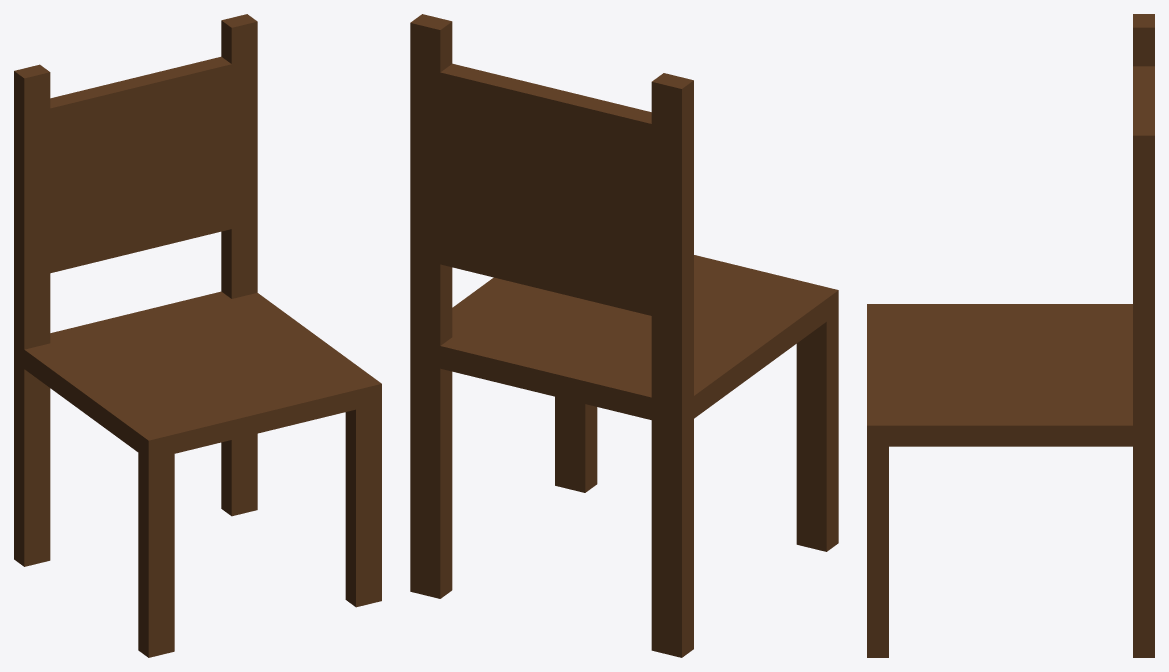
File: krzeslo.fbx
3 renders of one model, left to right at view 1: azimuth 30°, elevation 25°; view 2: azimuth 150°, elevation 25°; view 3: azimuth 270°, elevation 25°, orthographic. The views are drawn at different scales.
Parts seen in each view (by area): view 1: Cube; view 2: Cube; view 3: Cube.
Boxes of the visible parts, left/top/right/bottom form: Cube: left=14, top=14, right=381, bottom=657; Cube: left=410, top=14, right=838, bottom=657; Cube: left=867, top=14, right=1154, bottom=657.
Size of the model in its own units: 87.83 by 176 by 87.83.
